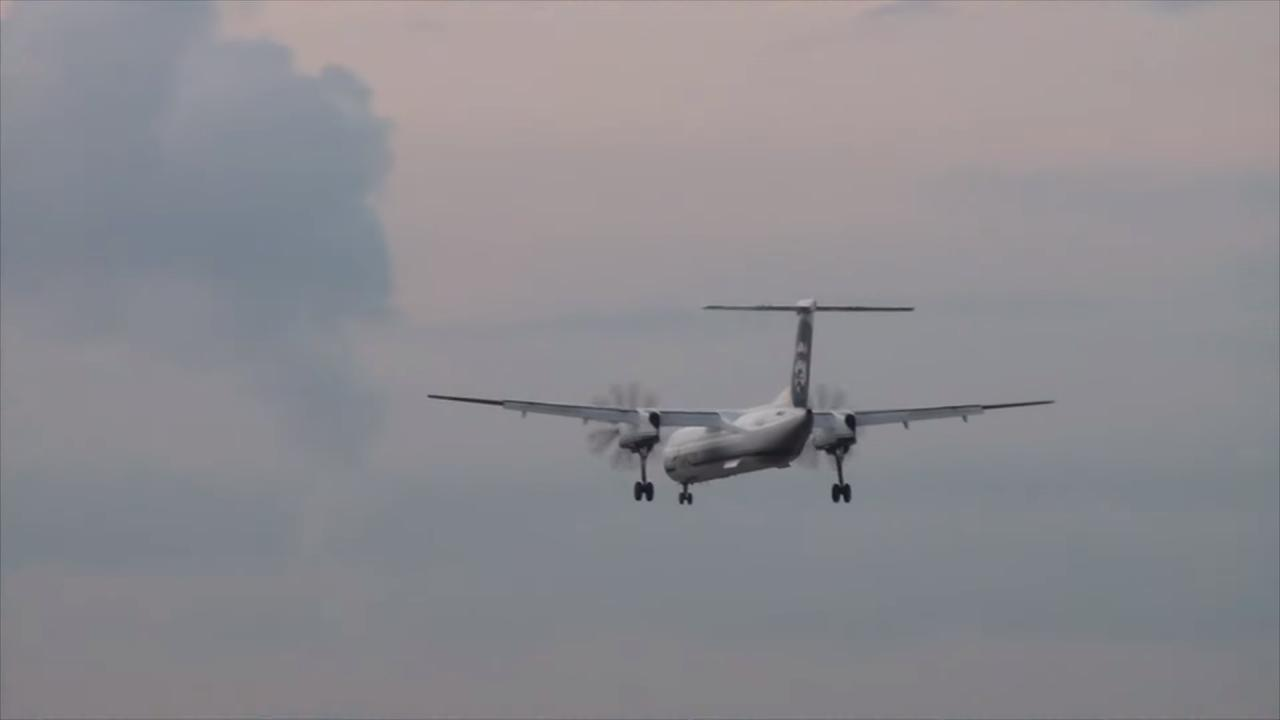Airplane: (412, 287, 1070, 519)
